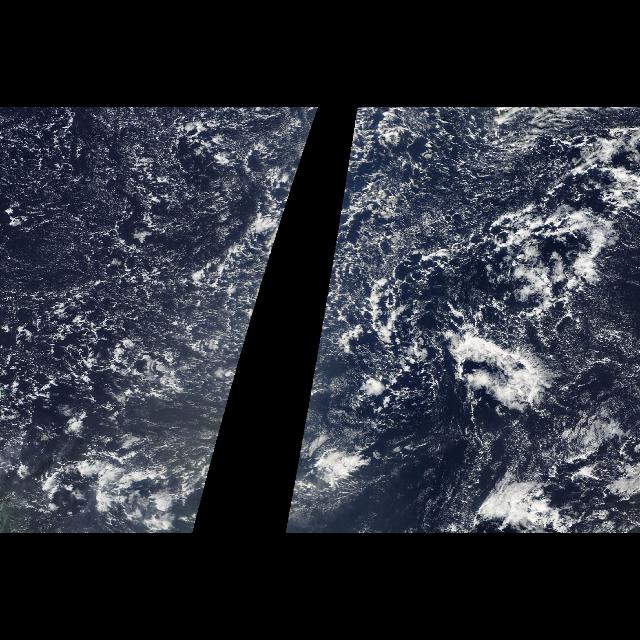Gravel: (285, 107, 635, 529), (0, 107, 320, 529)
Sugar: (8, 114, 162, 306)
